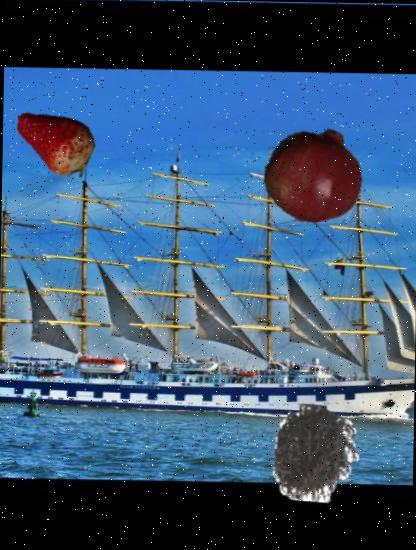Pomegranate: (264, 123, 366, 225)
Rambutan: (265, 403, 365, 503)
Strawberry: (11, 99, 95, 183)
